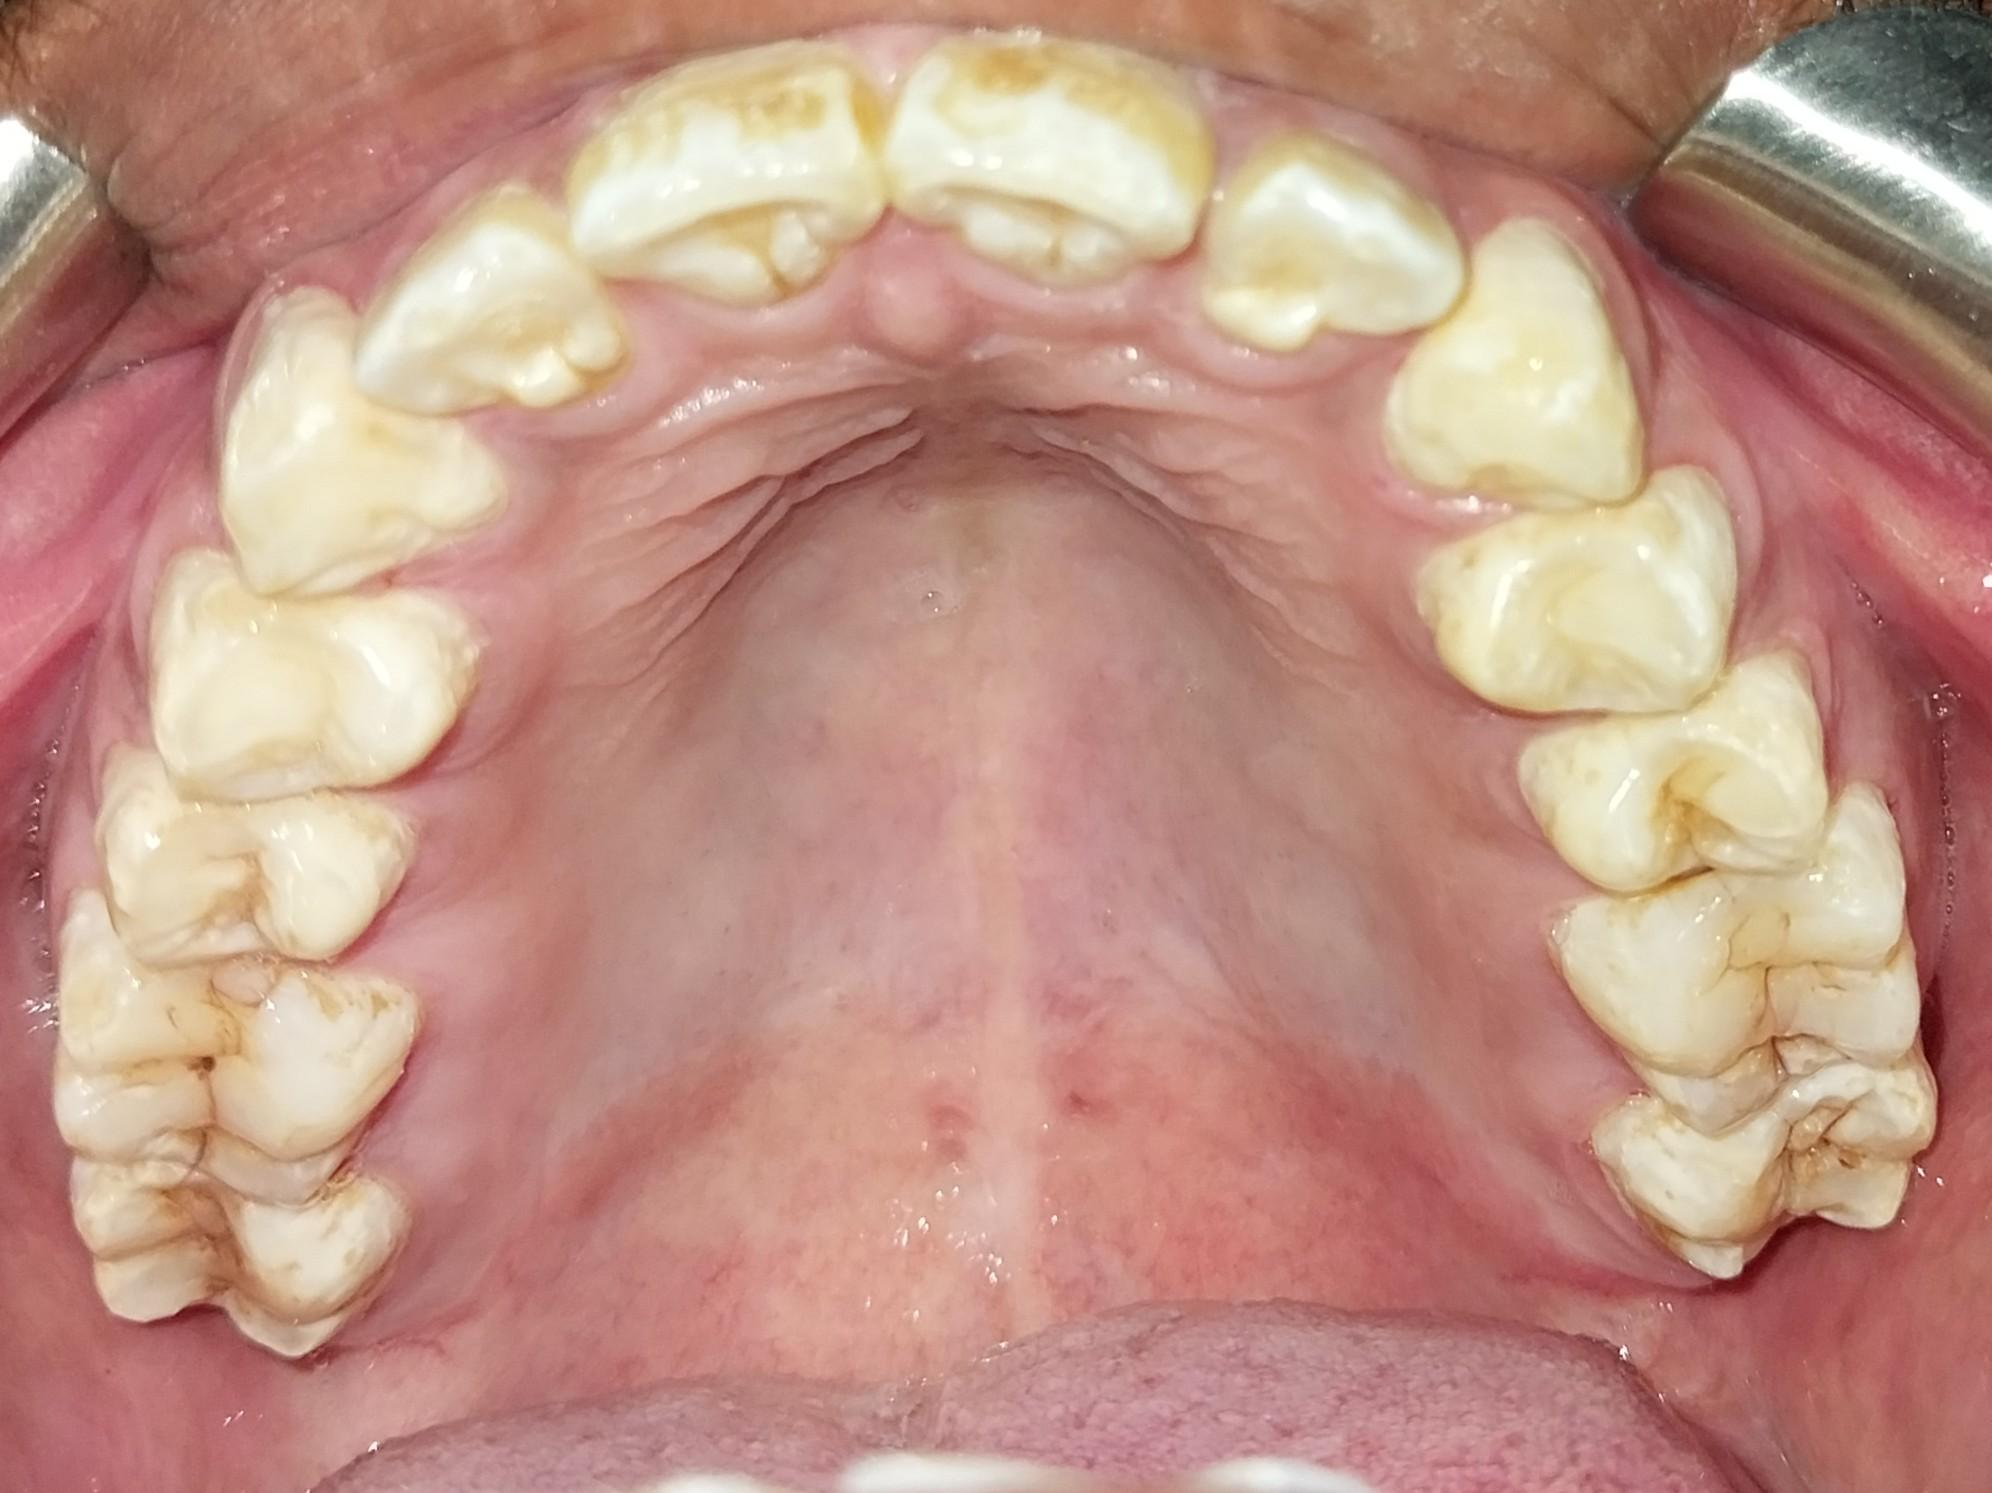D: (42, 954, 398, 1208), (1562, 884, 1913, 1133), (1596, 1077, 1939, 1272), (72, 1167, 401, 1361)
